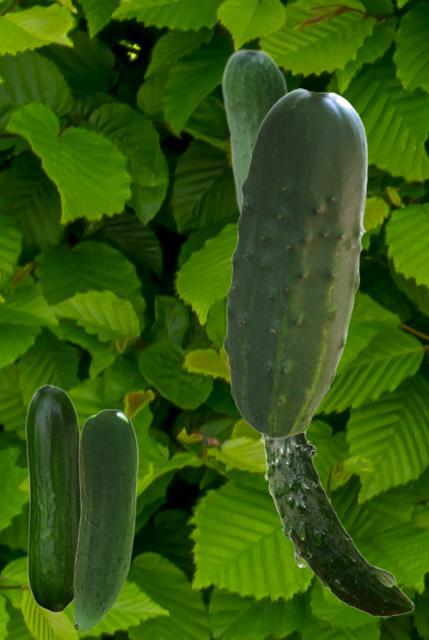cucumber: (223, 88, 367, 438), (260, 432, 413, 616), (73, 409, 137, 631), (25, 384, 80, 612), (221, 47, 288, 219)
